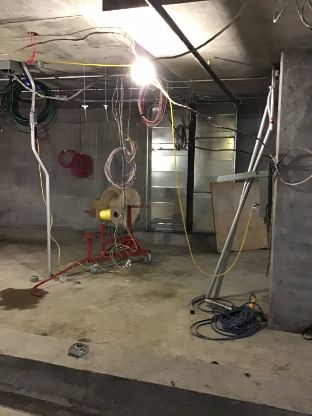Duct: (140, 93, 243, 239)
